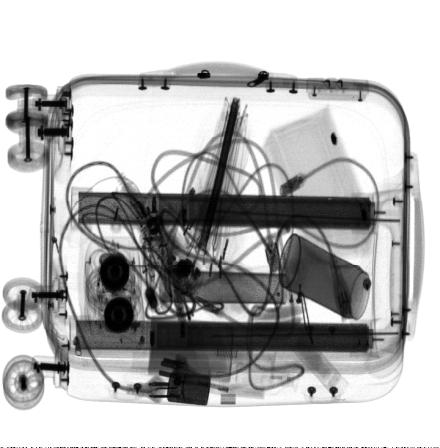Lighter: (166, 370, 211, 406)
